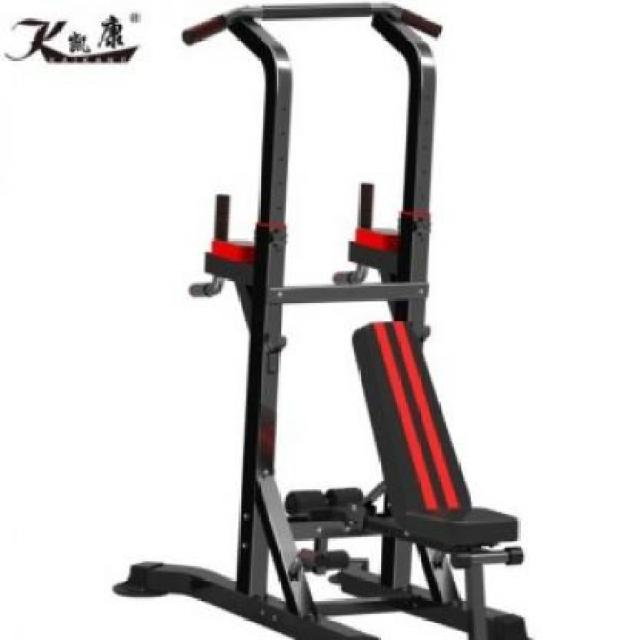chinning dipping: (143, 3, 526, 640)
